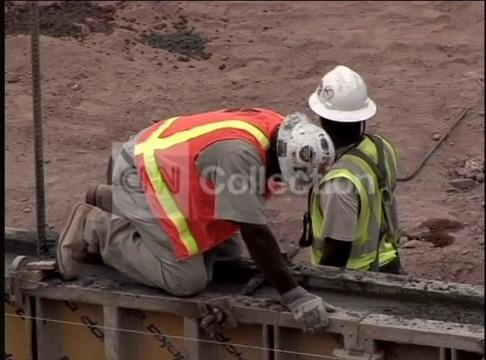Gloves: (285, 284, 351, 338)
Helmet: (271, 109, 330, 195), (307, 64, 377, 123)
Person: (31, 108, 331, 327), (310, 63, 413, 283)
Safety Boot: (51, 207, 91, 275)
Safety Vest: (135, 122, 299, 226), (326, 156, 402, 264)
